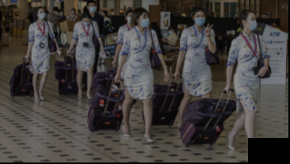with_mask: (138, 14, 151, 29), (247, 15, 258, 31), (194, 13, 207, 26), (37, 9, 46, 21), (88, 3, 96, 14), (127, 13, 133, 24), (81, 20, 91, 26), (59, 10, 64, 15), (70, 9, 75, 14), (168, 29, 173, 34), (54, 10, 58, 15)
